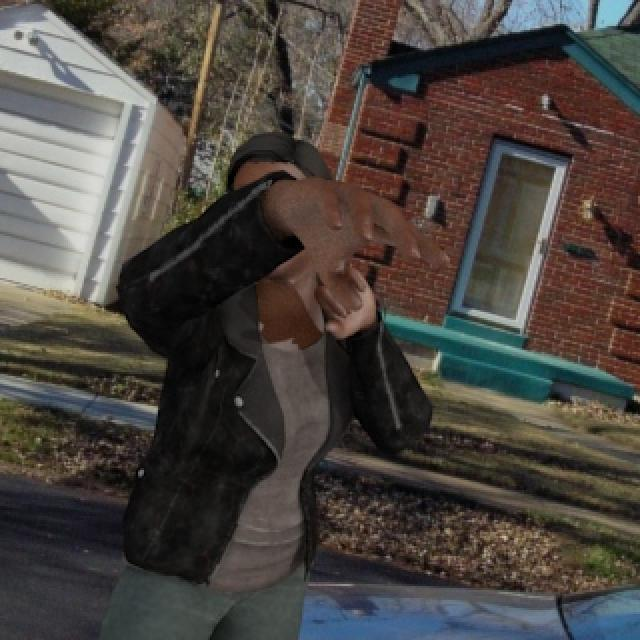not-gloved: (261, 159, 463, 308), (298, 262, 406, 339)
